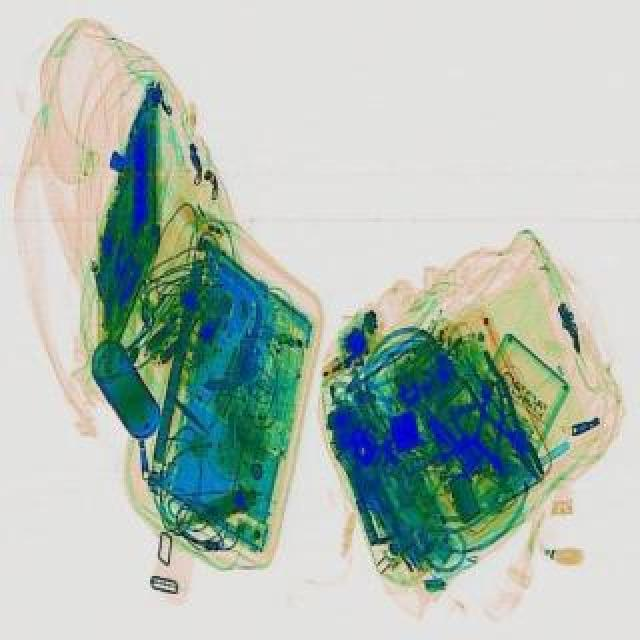wrench: (450, 348, 562, 488)
